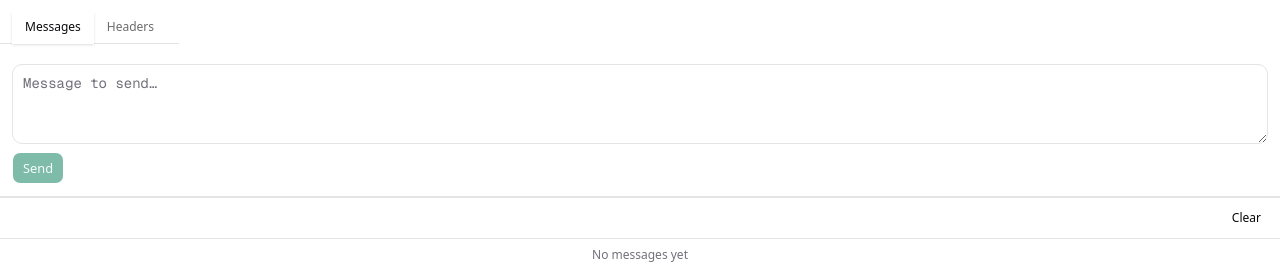
Test: WebSocketTabs › switching to headers shows KV header columns
Click the tab with test id "request-tab-headers": click(130, 28) [94, 12, 167, 44]
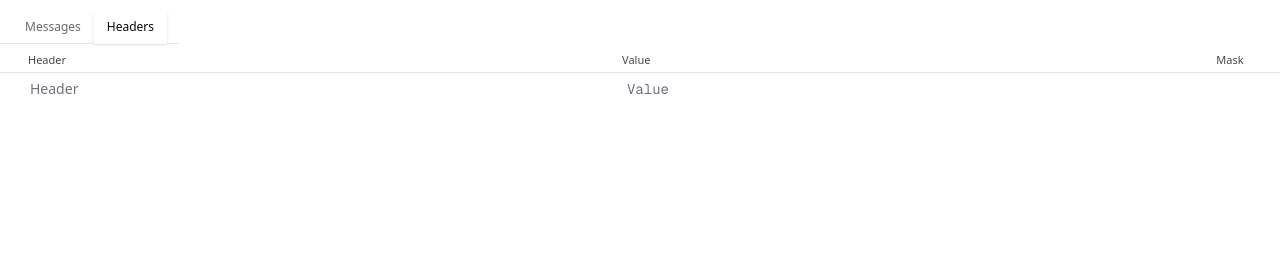
Expected: the text "Header" is shown, [28, 52, 66, 67]
